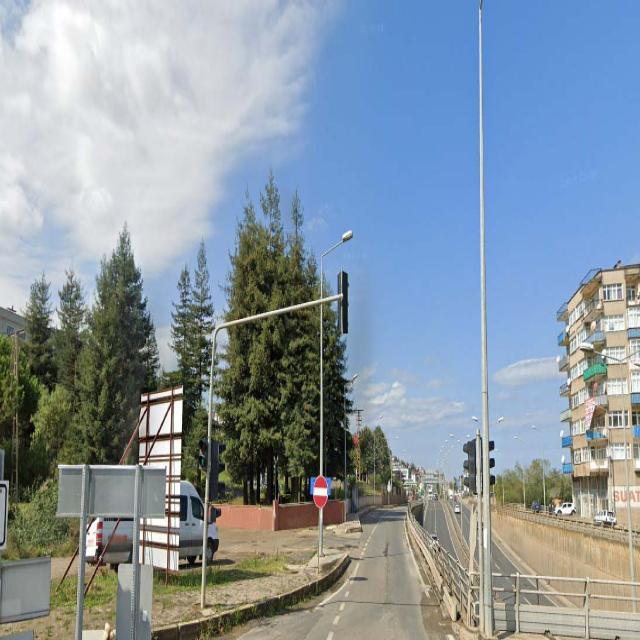girisyok: (313, 473, 329, 512)
